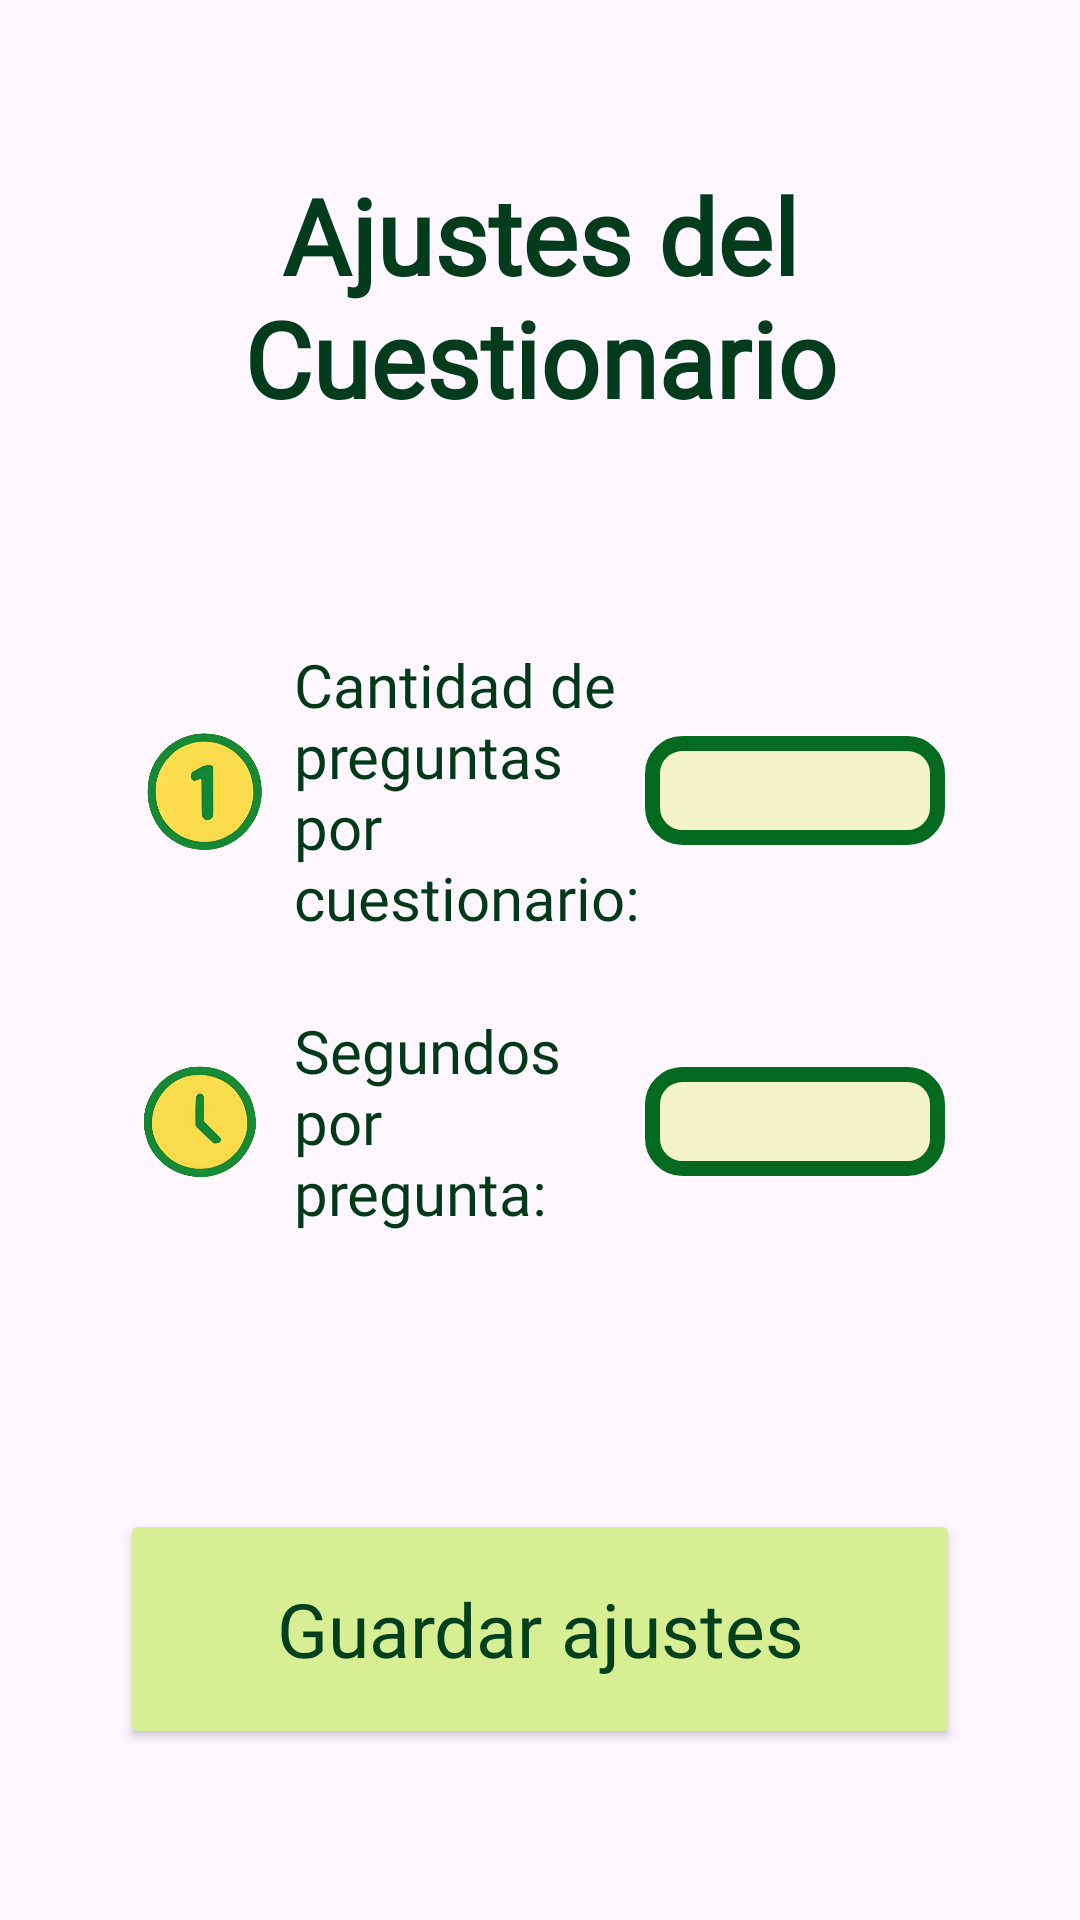

Icon click points for this 1080*1920 phone screenshot, format [x,y]:
clock: [200,1121]
number: [204,791]
